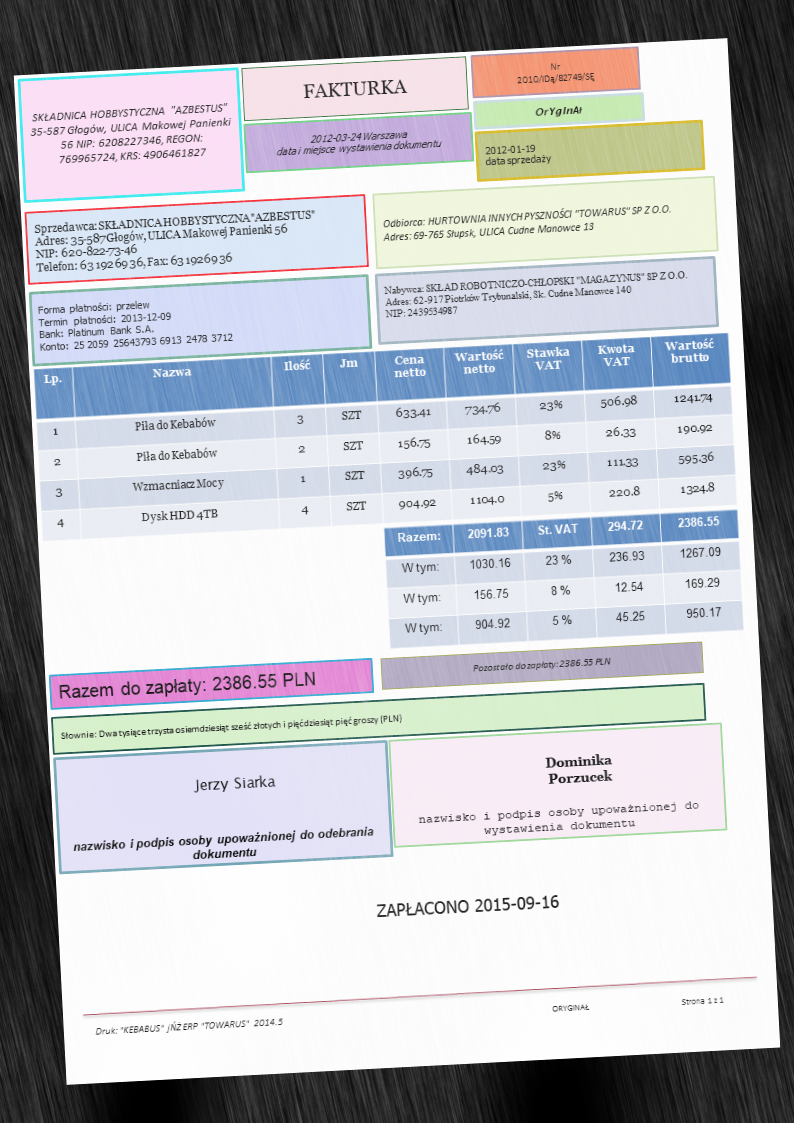Table: (32, 330, 739, 543), (382, 506, 745, 651)
TextBox: (30, 204, 322, 278), (381, 265, 691, 321), (25, 98, 236, 169), (71, 823, 378, 868), (380, 201, 674, 246), (35, 291, 237, 356), (415, 796, 704, 841), (58, 710, 406, 745), (56, 667, 317, 702), (272, 124, 445, 160), (373, 890, 564, 920), (93, 1013, 287, 1039), (548, 992, 728, 1016), (470, 653, 614, 676), (541, 749, 618, 790), (300, 75, 408, 102), (512, 57, 597, 88), (188, 770, 279, 797), (482, 138, 553, 170), (532, 100, 585, 120)
